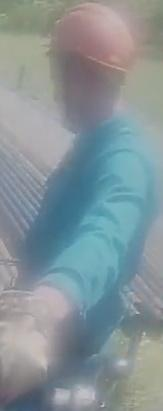gloves: (0, 290, 68, 406)
helmet: (50, 2, 135, 76)
vest: (30, 128, 157, 346)
